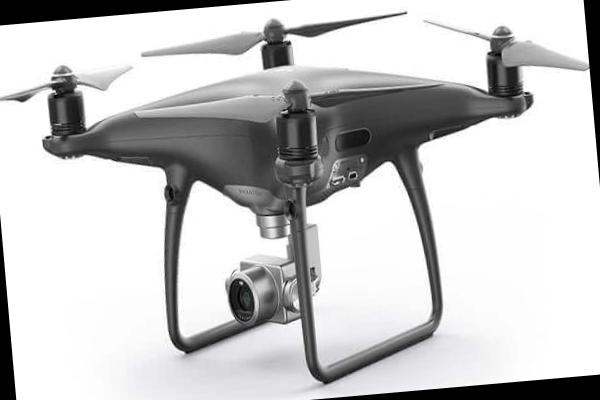drone: (0, 0, 594, 228)
